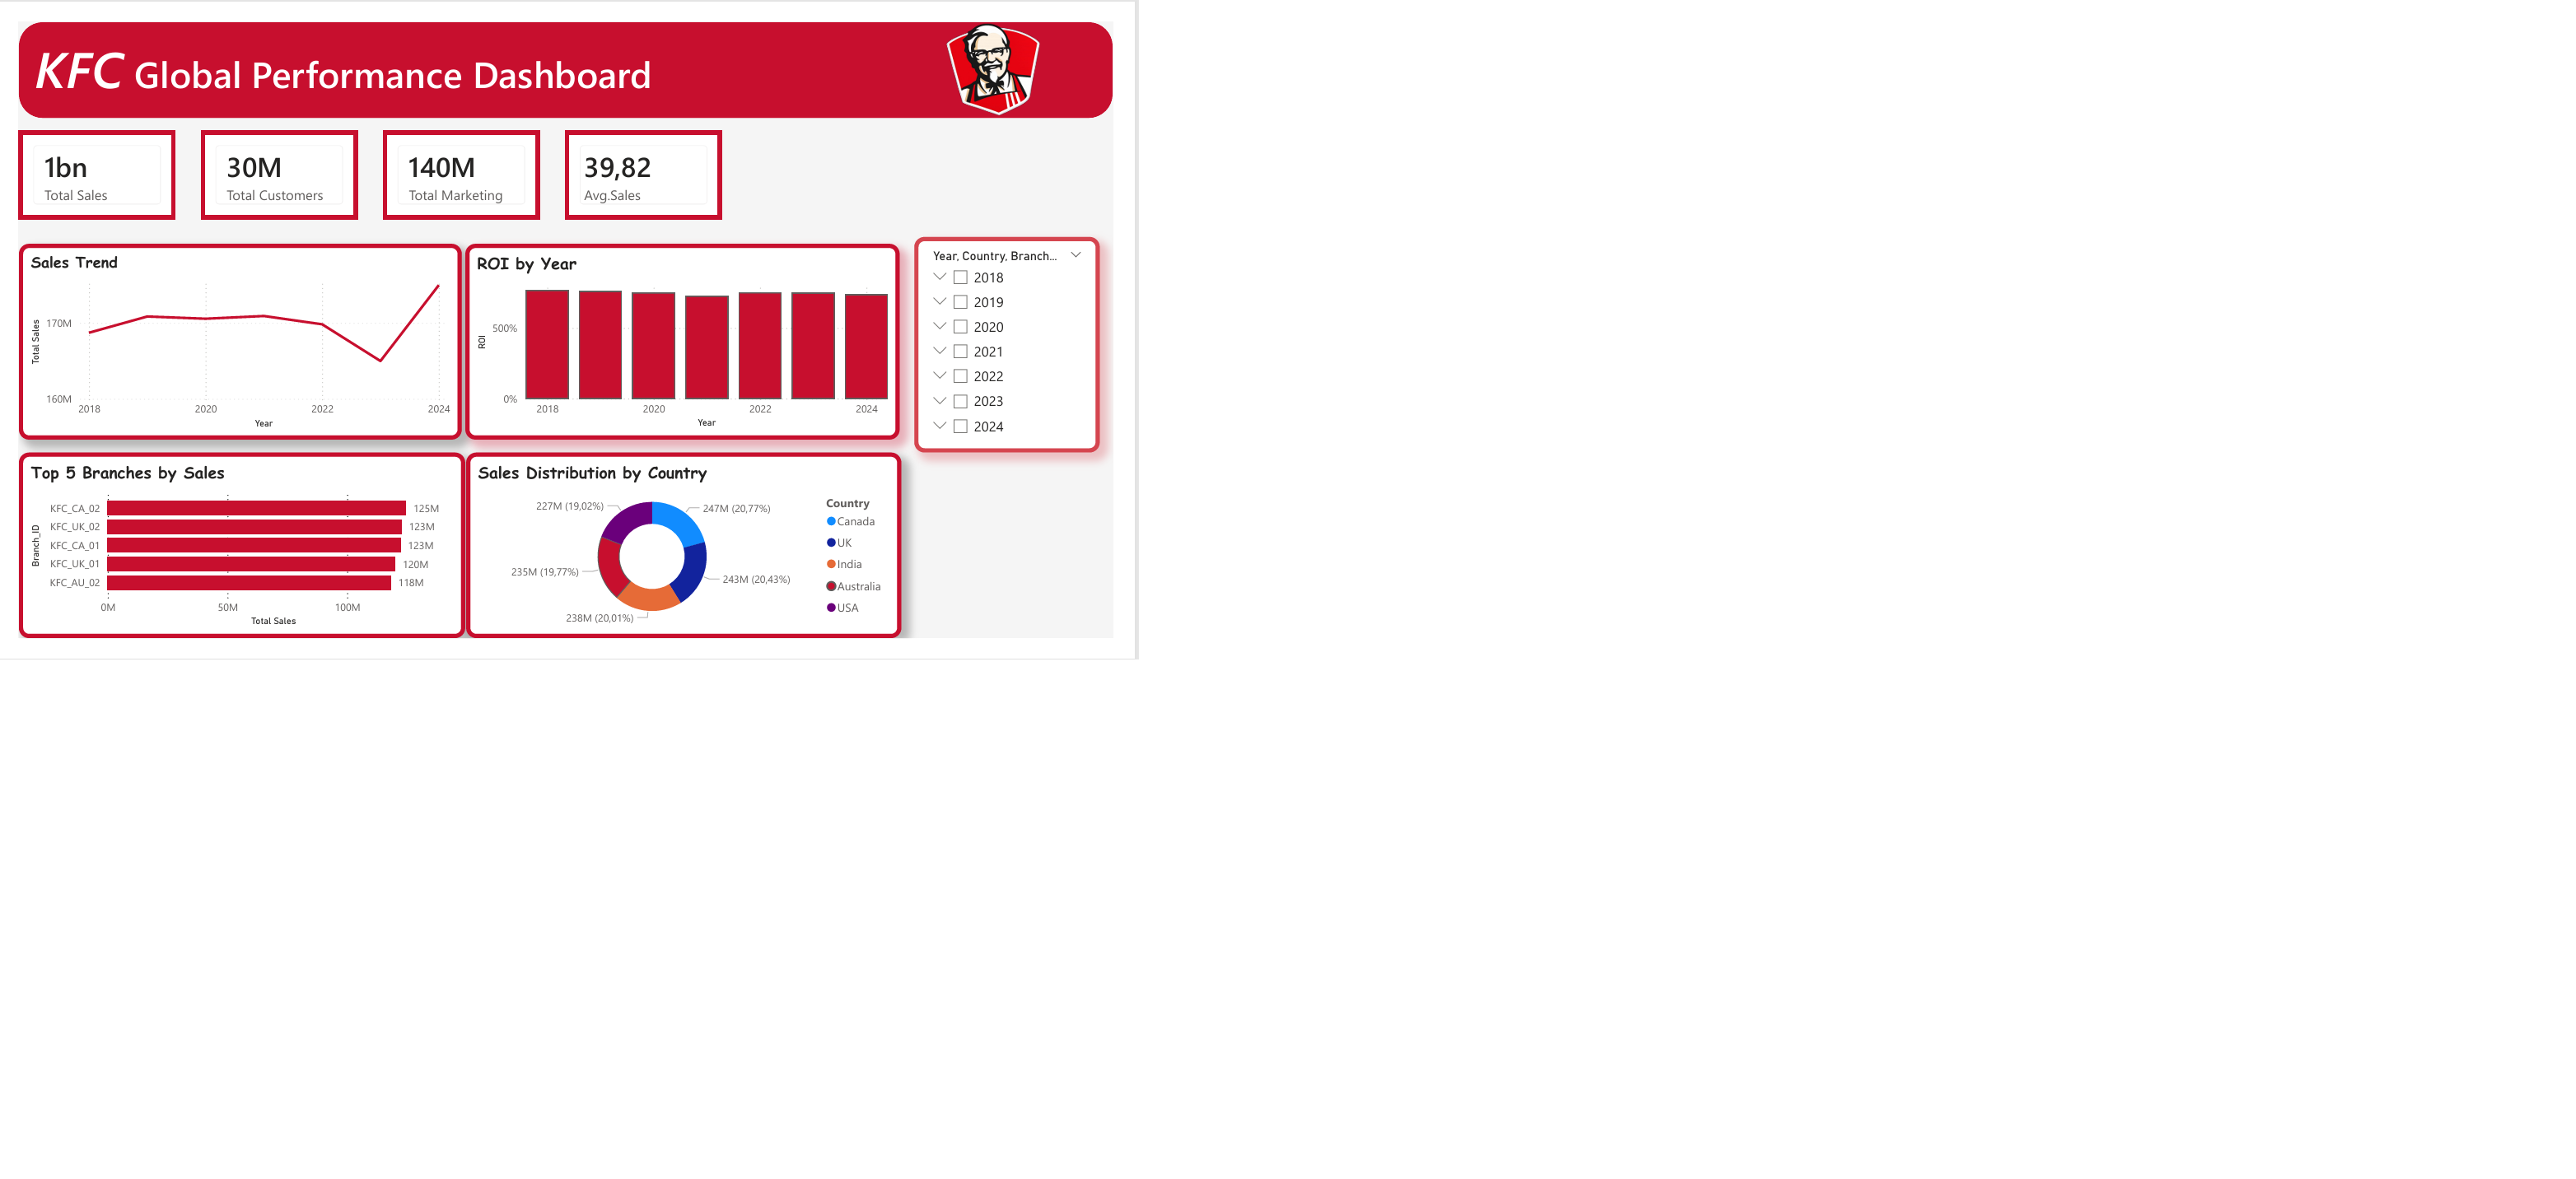

The dashboard page shown, as its layout file describes it:
{"tool":"powerbi","page":{"name":"Page 1","canvas":[1280,720],"ordinal":0},"visuals":[{"type":"shape","box":[0,0,1279.4,111.8],"z":0},{"type":"textbox","box":[0,8.7,758.7,93.5],"z":1000},{"type":"cardVisual","fields":{"Data":["KFC_Past_Sales_Dataset.Total Customers"]},"box":[213.1,126.6,183,103.9],"z":2000},{"type":"cardVisual","fields":{"Data":["KFC_Past_Sales_Dataset.Total Marketing"]},"box":[425.9,126.6,183,103.9],"z":3000},{"type":"cardVisual","fields":{"Data":["KFC_Past_Sales_Dataset.Avg.Sales per Customer"]},"box":[638.7,126.6,183,103.9],"z":4000},{"type":"lineChart","title":" Sales Trend","fields":{"Category":["KFC_Past_Sales_Dataset.Year"],"Y":["KFC_Past_Sales_Dataset.Total Sales"]},"box":[0,258.9,517.8,228.7],"z":5000},{"type":"clusteredBarChart","title":"Top 5 Branches by Sales","fields":{"Category":["KFC_Past_Sales_Dataset.Branch_ID"],"Y":["KFC_Past_Sales_Dataset.Total Sales"]},"box":[0,502.7,521.6,217.3],"z":6000},{"type":"donutChart","title":"Sales Distribution by Country","fields":{"Category":["KFC_Past_Sales_Dataset.Country"],"Y":["KFC_Past_Sales_Dataset.Total Sales"]},"box":[523.5,502.7,508.4,217.3],"z":7000},{"type":"cardVisual","fields":{"Data":["KFC_Past_Sales_Dataset.Total Sales"]},"box":[0,126.6,183.3,103.9],"z":8000},{"type":"image","box":[1065.2,0,147.8,110.9],"z":9000},{"type":"clusteredColumnChart","fields":{"Category":["KFC_Past_Sales_Dataset.Year"],"Y":["KFC_Past_Sales_Dataset.ROI"]},"box":[521.6,258.9,508.4,228.7],"z":10000},{"type":"slicer","fields":{"Values":["KFC_Past_Sales_Dataset.Year","KFC_Past_Sales_Dataset.Country","KFC_Past_Sales_Dataset.Branch_ID"]},"box":[1046.9,251.3,217.3,251.3],"z":11000}]}

Visuals, with their boxes on the page's 1280x720 design canvas (x1, y1, x2, y2). These are canvas units, not pixel positions in the 2576x1179 screenshot, which may show the page scaled, cropped or inside an application window:
shape: left=0, top=0, right=1279, bottom=112
textbox: left=0, top=9, right=759, bottom=102
cardVisual - KFC_Past_Sales_Dataset.Total Customers: left=213, top=127, right=396, bottom=230
cardVisual - KFC_Past_Sales_Dataset.Total Marketing: left=426, top=127, right=609, bottom=230
cardVisual - KFC_Past_Sales_Dataset.Avg.Sales per Customer: left=639, top=127, right=822, bottom=230
" Sales Trend" lineChart: left=0, top=259, right=518, bottom=488
"Top 5 Branches by Sales" clusteredBarChart: left=0, top=503, right=522, bottom=720
"Sales Distribution by Country" donutChart: left=524, top=503, right=1032, bottom=720
cardVisual - KFC_Past_Sales_Dataset.Total Sales: left=0, top=127, right=183, bottom=230
image: left=1065, top=0, right=1213, bottom=111
clusteredColumnChart - KFC_Past_Sales_Dataset.Year x KFC_Past_Sales_Dataset.ROI: left=522, top=259, right=1030, bottom=488
slicer - KFC_Past_Sales_Dataset.Year x KFC_Past_Sales_Dataset.Country: left=1047, top=251, right=1264, bottom=503
